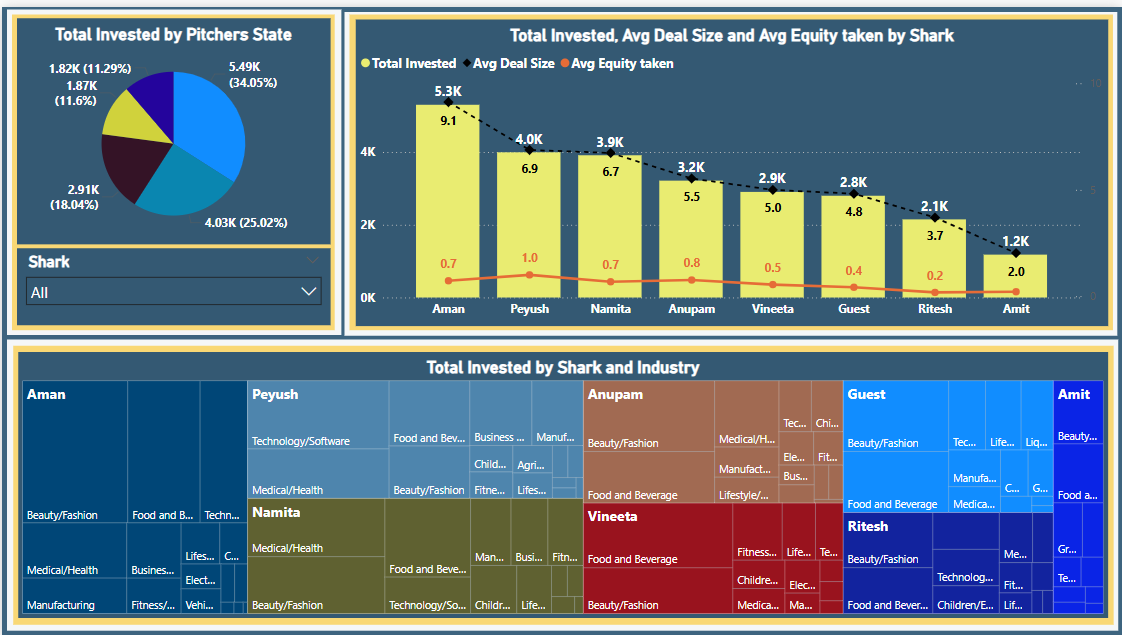

The dashboard page shown, as its layout file describes it:
{"tool":"powerbi","page":{"name":"shark analysis","canvas":[1280,720],"ordinal":3},"visuals":[{"type":"shape","box":[391.7,5,883.3,370],"z":0},{"type":"shape","box":[397.5,8.3,872.5,360.8],"z":1000},{"type":"actionButton","box":[11.7,16.7,50,40],"z":2000},{"type":"shape","box":[5,380,1270,333.1],"z":3000},{"type":"shape","box":[12.2,387.8,1257.8,318.9],"z":4000},{"type":"shape","box":[5,2.9,382.1,372.1],"z":5000},{"type":"shape","box":[11,9,369,361],"z":6000},{"type":"lineStackedColumnComboChart","fields":{"Category":["Shark Tank India (2).Shark"],"Y":["Shark Tank India (2).Total Invested"],"Y2":["Shark Tank India (2).Avg Deal Size","Shark Tank India (2).Avg Equity taken"]},"box":[404.5,14.5,860,350],"z":7000},{"type":"treemap","fields":{"Details":["Shark Tank India (2).Industry"],"Group":["Shark Tank India (2).Shark"],"Values":["Shark Tank India (2).Total Invested"]},"box":[18.5,393.8,1245.4,303.8],"z":8000},{"type":"pieChart","title":"Top 5 States by Total Investment","fields":{"Category":["Shark Tank India (2).Pitchers State"],"Y":["Shark Tank India (2).Total Invested"]},"box":[17,13,358,258],"z":9000},{"type":"slicer","fields":{"Values":["Shark Tank India (2).Shark"]},"box":[17,276,358,88],"z":10000}]}

Visuals, with their boxes in screenshot pixels (x1, y1, x2, y2), scaled from the page's 1280x720 canvas onto the 1122x635 screenshot:
shape: locate(343, 4, 1118, 331)
shape: locate(348, 7, 1113, 326)
actionButton: locate(10, 15, 54, 50)
shape: locate(4, 335, 1118, 629)
shape: locate(11, 342, 1113, 623)
shape: locate(4, 3, 339, 331)
shape: locate(10, 8, 333, 326)
lineStackedColumnComboChart - Shark Tank India (2).Shark x Shark Tank India (2).Total Invested: locate(355, 13, 1108, 321)
treemap - Shark Tank India (2).Industry x Shark Tank India (2).Shark: locate(16, 347, 1108, 615)
"Top 5 States by Total Investment" pieChart: locate(15, 11, 329, 239)
slicer - Shark Tank India (2).Shark: locate(15, 243, 329, 321)
